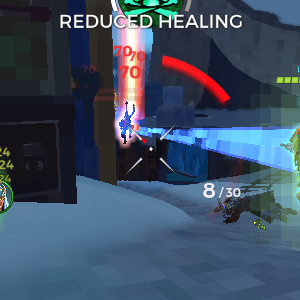model: (116, 105, 136, 147)
